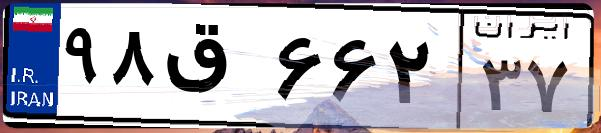2: (385, 28, 445, 110)
3: (475, 38, 525, 113)
6: (270, 28, 330, 110), (330, 28, 385, 110)
7: (525, 38, 570, 115)
8: (110, 28, 158, 98)
9: (57, 26, 110, 100)
ق: (158, 20, 270, 120)
